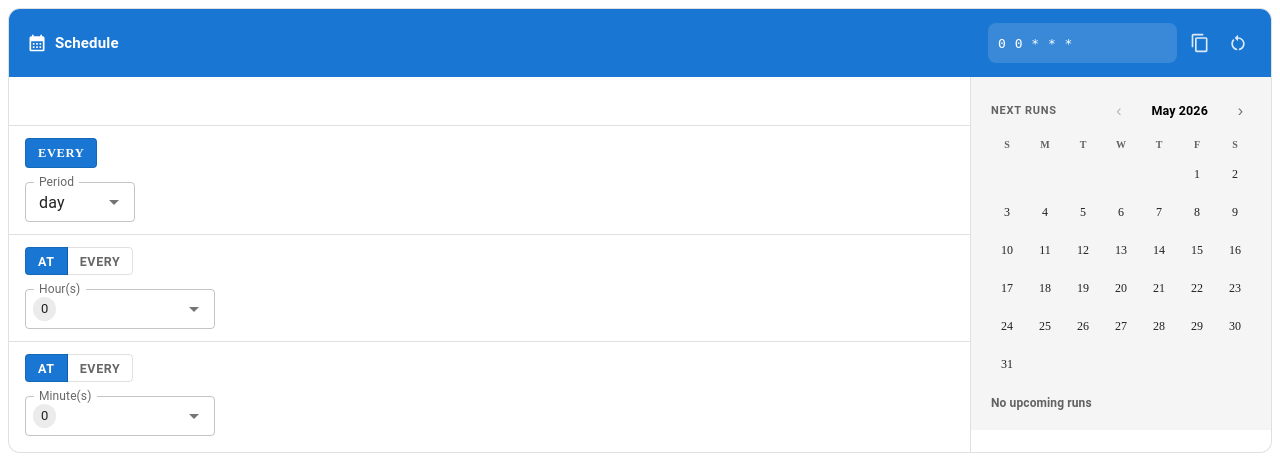
Scenario: Scheduler segmented controls (browser) › renders the At/Every selector as a segmented toggle and switches mode on click
expect the number of elements named "At/Every" is 2: met, box top-left (25, 247), bottom-right (134, 275); top-left (25, 354), bottom-right (134, 382)
Click the 1st button "every": (100, 261) top-left (67, 247), bottom-right (134, 275)
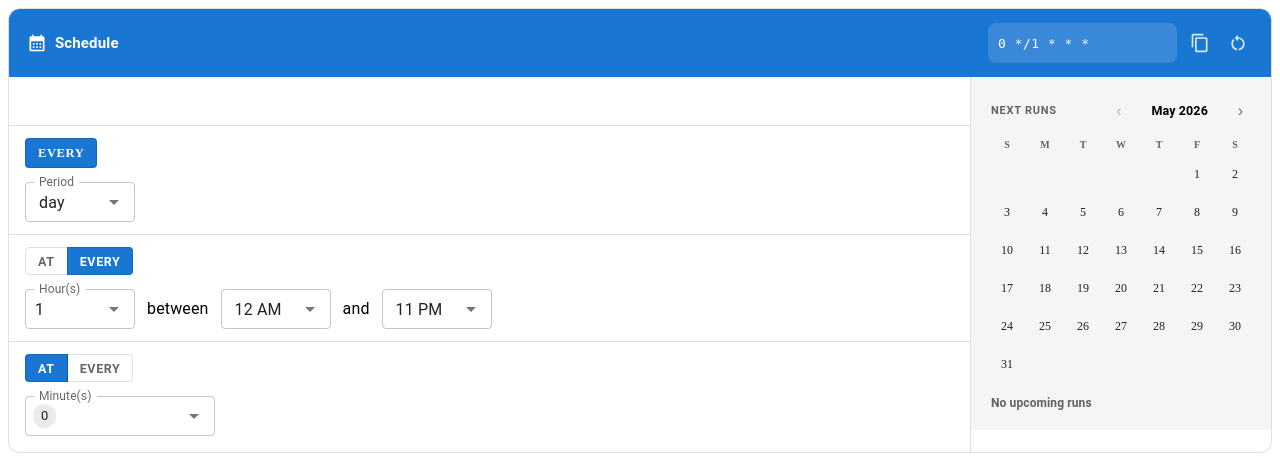
expect the field named "cron expression" does not hold "0 0 * * *": met, box top-left (988, 34), bottom-right (1177, 52)
